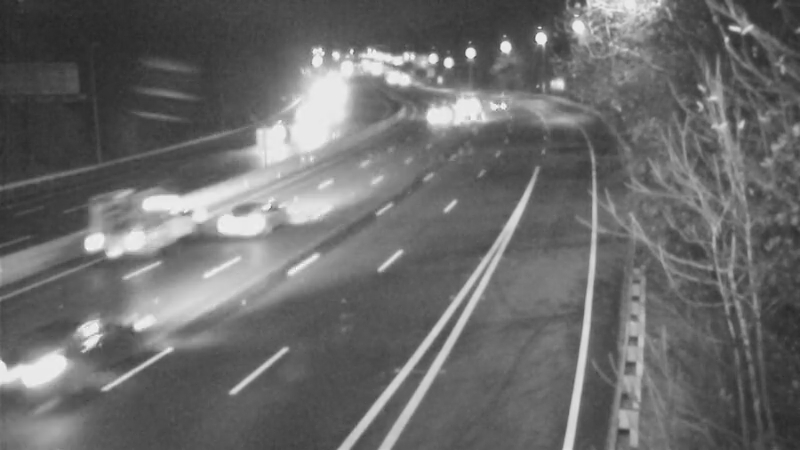vehicle: (23, 301, 133, 411), (201, 184, 281, 264), (87, 192, 167, 272), (443, 79, 493, 129), (474, 80, 524, 130), (415, 90, 465, 140), (440, 93, 490, 143), (246, 113, 296, 163)
